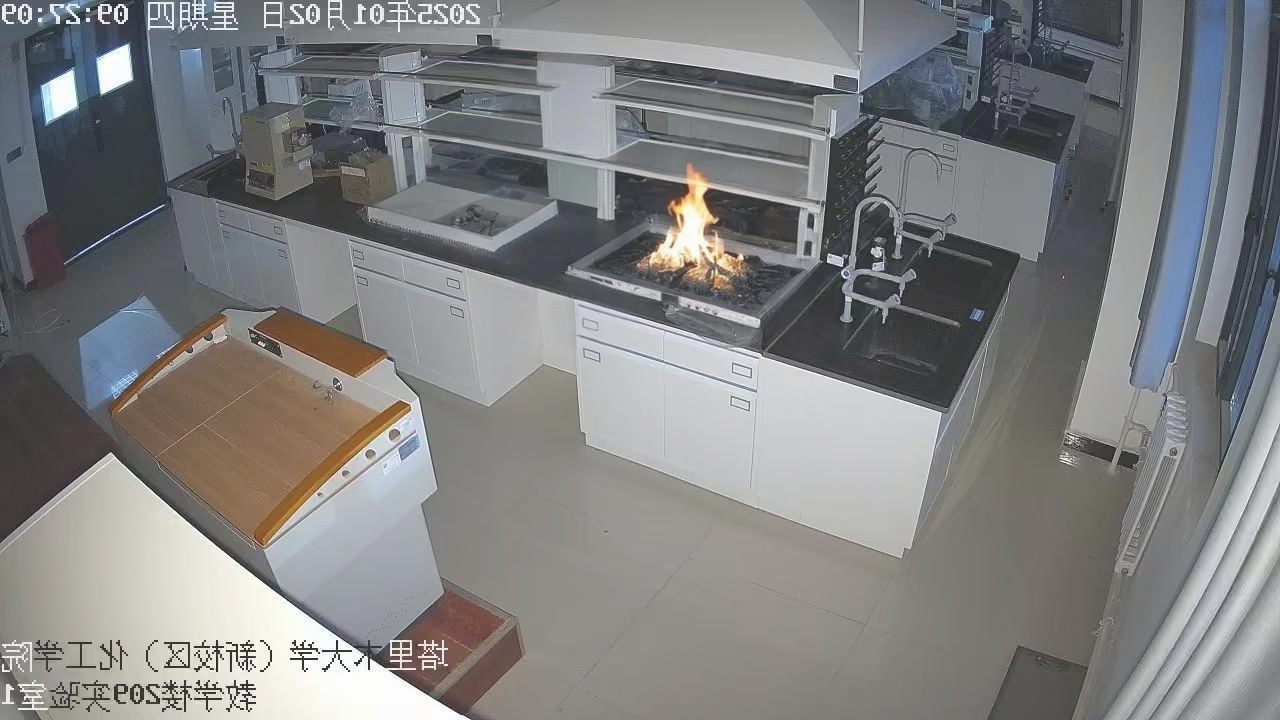fire: (619, 167, 748, 325)
